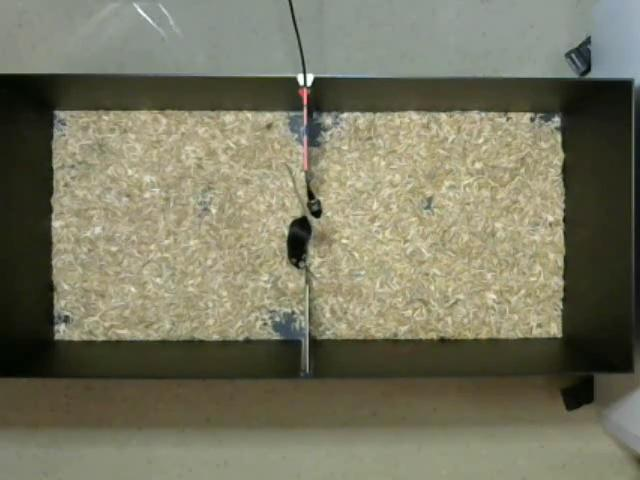rat: (281, 163, 312, 271)
